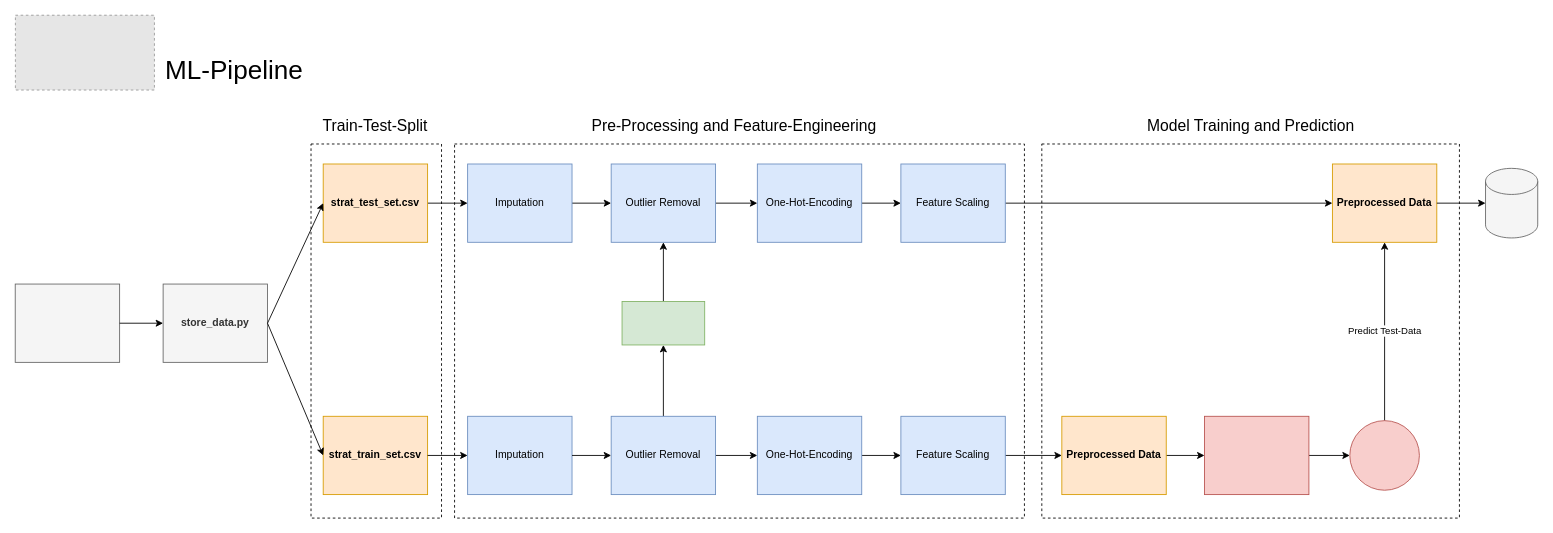
This 1553x533 diagram has some shape labels left out. Grey dashed boxes stand in for pictures. The shapes that lost their labels are listed below. From the top down, each one's centre as x and y in pixels, then its label:
At (x=1511, y=202): "Predictions".
At (x=67, y=322): "Raw Data".
At (x=663, y=323): "Isolation-Forest Model".
At (x=1256, y=455): "Model Training".
At (x=1384, y=455): "Model".
